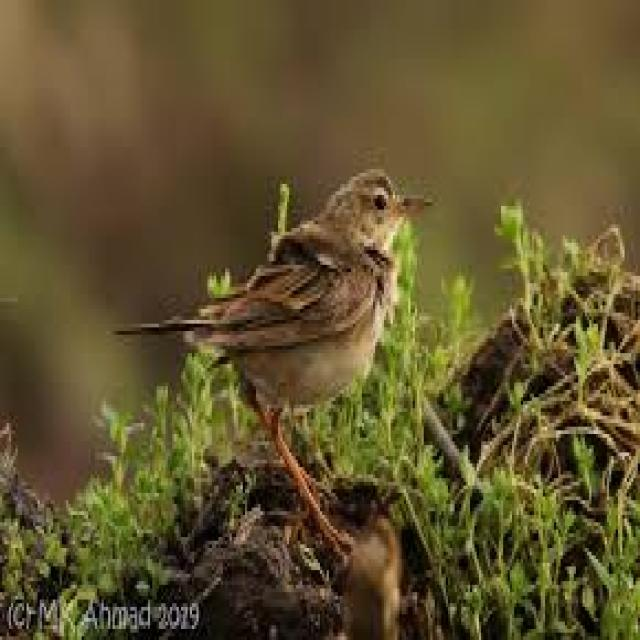bird: (131, 164, 453, 520)
